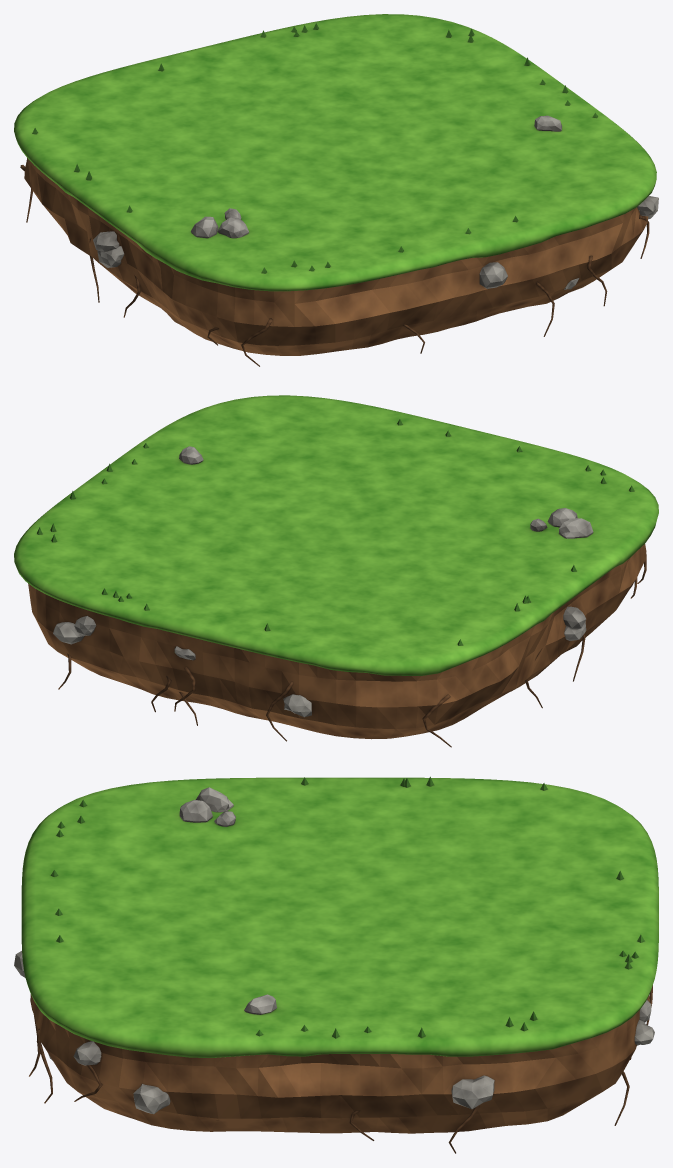
Rendered from ParisCafe_Island.fbx.
3 renders of one model, top to bottom at view 1: azimuth 30°, elevation 25°; view 2: azimuth 150°, elevation 25°; view 3: azimuth 270°, elevation 25°, orthographic. The views are drawn at different scales.
Visible parts, largest first — view 1: Island_Top, Island_Body; view 2: Island_Top, Island_Body; view 3: Island_Top, Island_Body.
Part boxes in pixels (x1,y1,x2,y2): Island_Top: (14,14,656,291); Island_Body: (20,158,658,366); Island_Top: (14,395,658,675); Island_Body: (28,544,646,747); Island_Top: (21,776,658,1057); Island_Body: (14,951,654,1153).
Bounding box in the file's own units: 18.02 × 5.48 × 17.93.
1 material, 1 textured.
